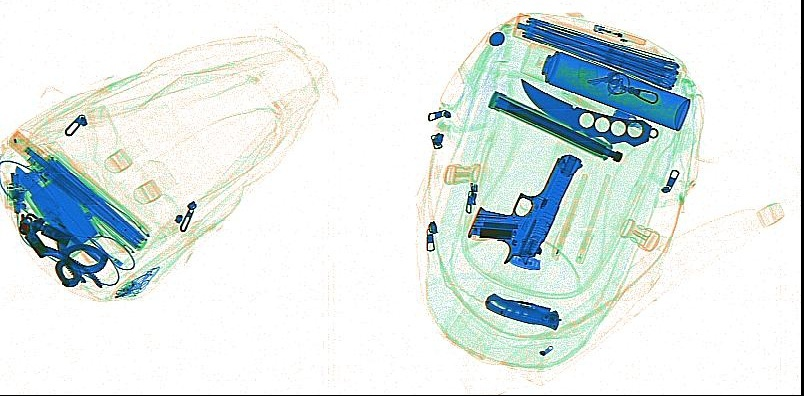handcuffs: (14, 209, 108, 289)
knife: (517, 76, 660, 147), (12, 165, 95, 263), (484, 292, 560, 330)
lighter: (591, 23, 646, 46)
pressure: (540, 50, 690, 133)
